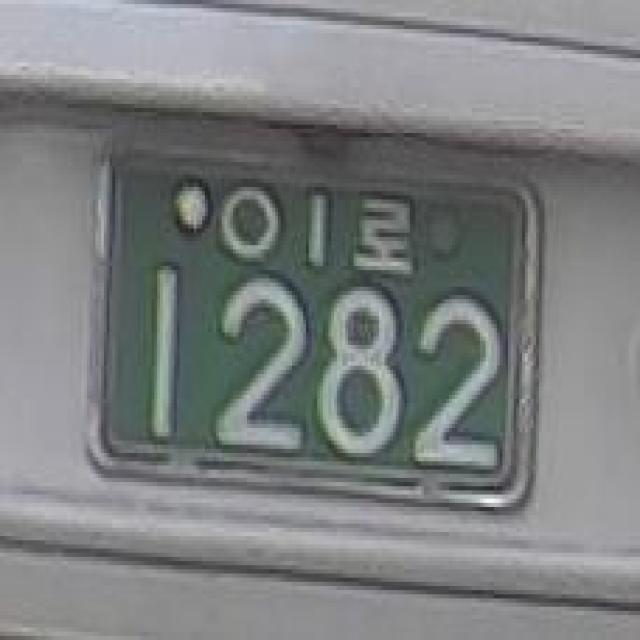illegal_plate: (75, 123, 556, 534)
